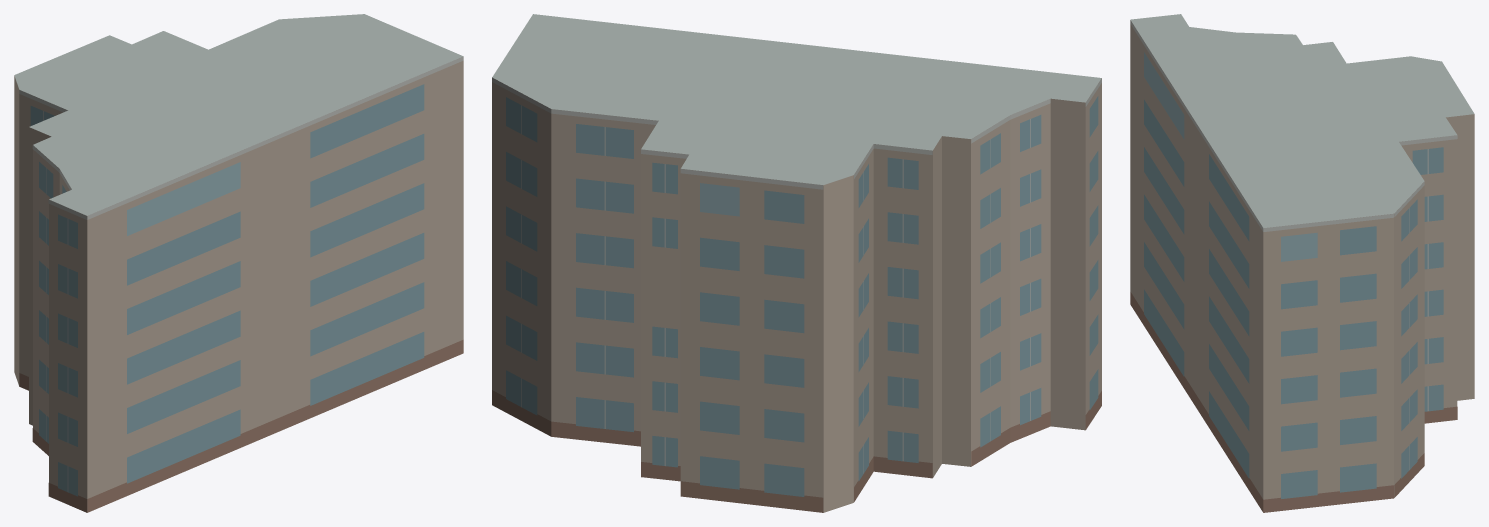
The model's file is survey-upis-32562111.glb.
3 renders of one model, left to right at view 1: azimuth 30°, elevation 25°; view 2: azimuth 150°, elevation 25°; view 3: azimuth 270°, elevation 25°, orthographic. The views are drawn at different scales.
Parts seen in each view (by area): view 1: survey-upis-32562111.tmp; view 2: survey-upis-32562111.tmp; view 3: survey-upis-32562111.tmp.
Boxes of the visible parts, x1=… form: survey-upis-32562111.tmp: x1=14, y1=14, x2=463, y2=512; survey-upis-32562111.tmp: x1=492, y1=14, x2=1101, y2=512; survey-upis-32562111.tmp: x1=1130, y1=14, x2=1474, y2=512.
Size of the model in its own units: 28.08 by 17.4 by 19.09.
